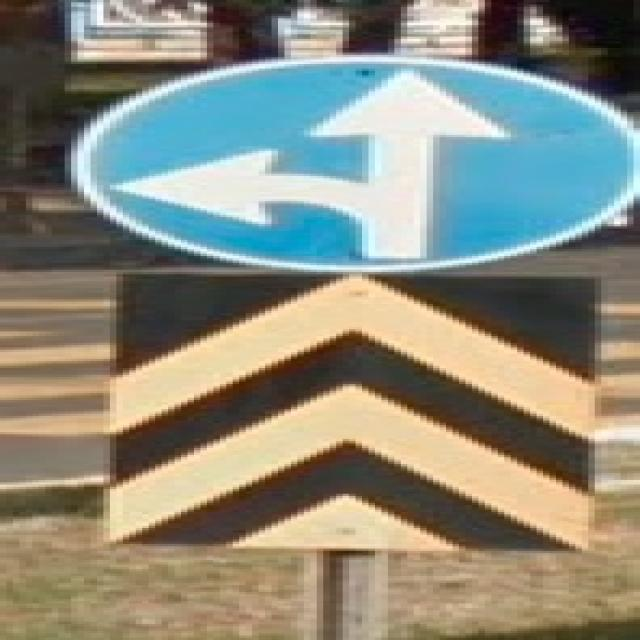Straight or Left: (72, 55, 640, 272)
